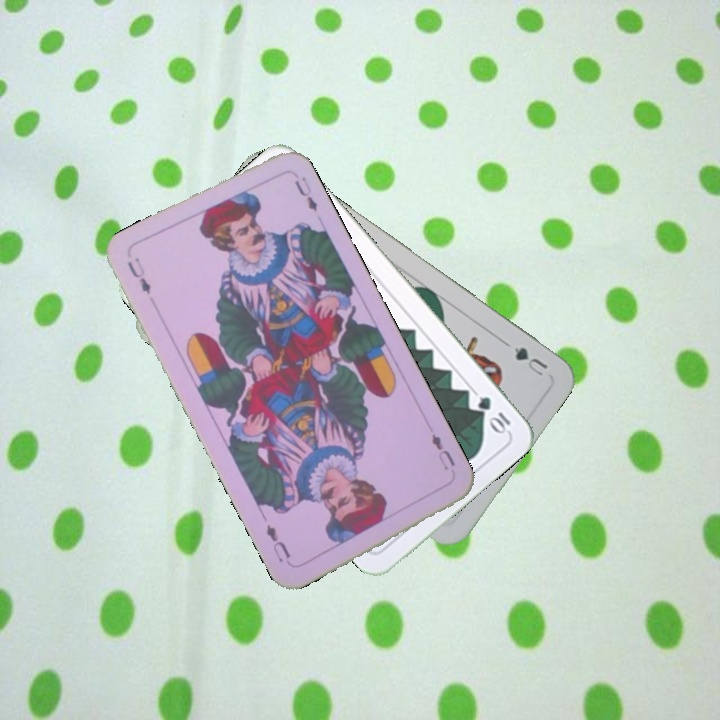EU: (427, 429, 458, 473), (123, 253, 154, 296)
G10: (473, 392, 513, 436)
GU: (510, 342, 551, 379)
